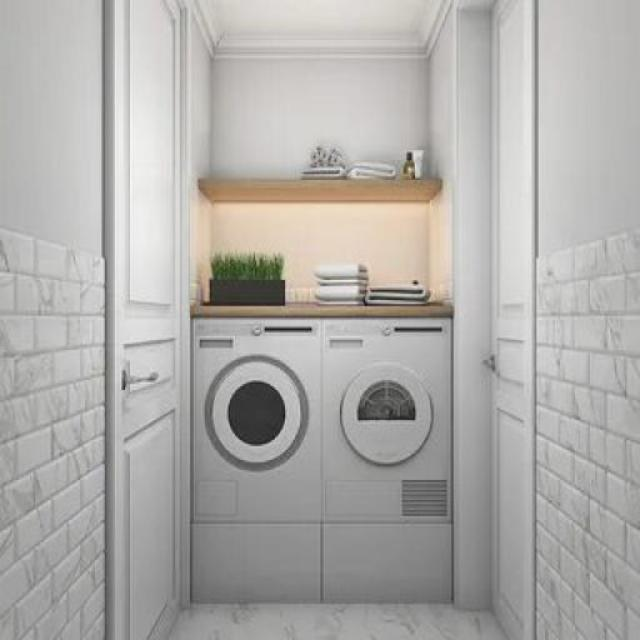Washing-Machine: (194, 314, 320, 524), (322, 320, 448, 518)
